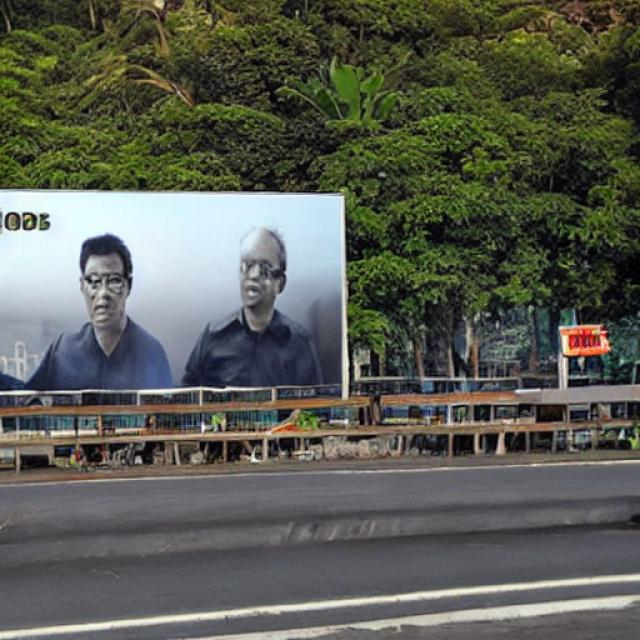Billboard: (0, 185, 356, 395)
